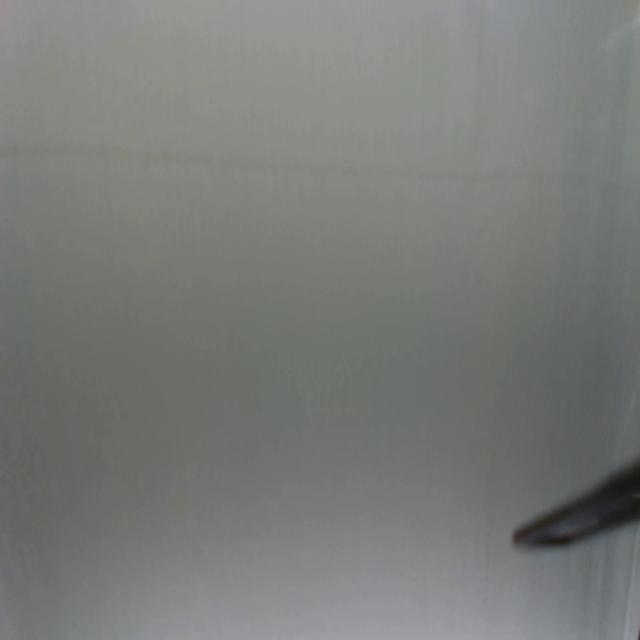color bleeding: (6, 135, 640, 200)
